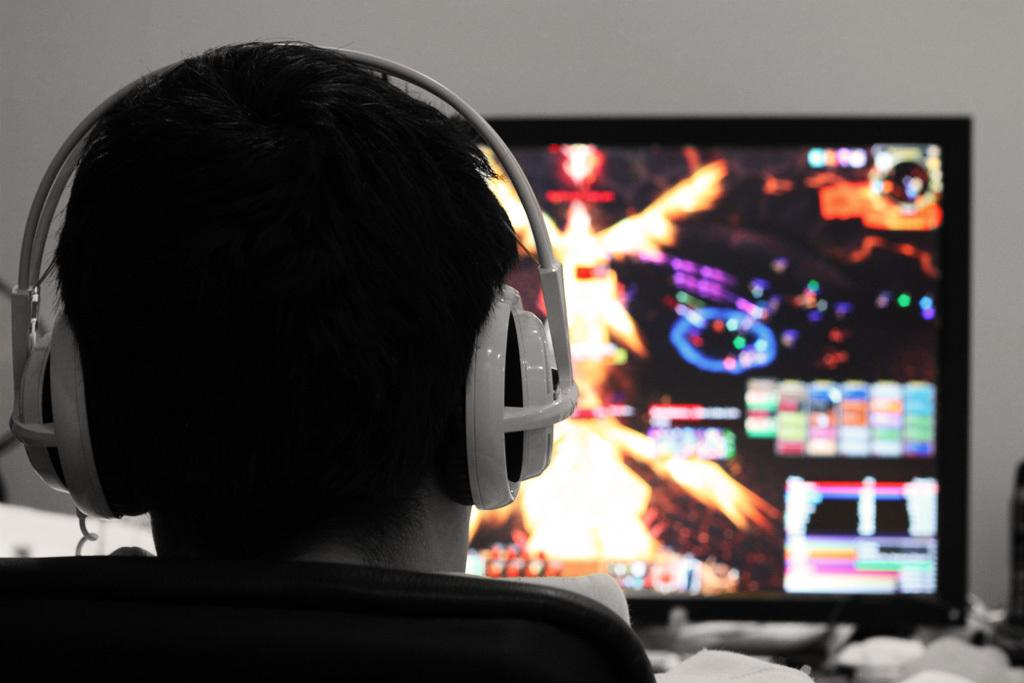Computer-monitor: (445, 107, 980, 632)
